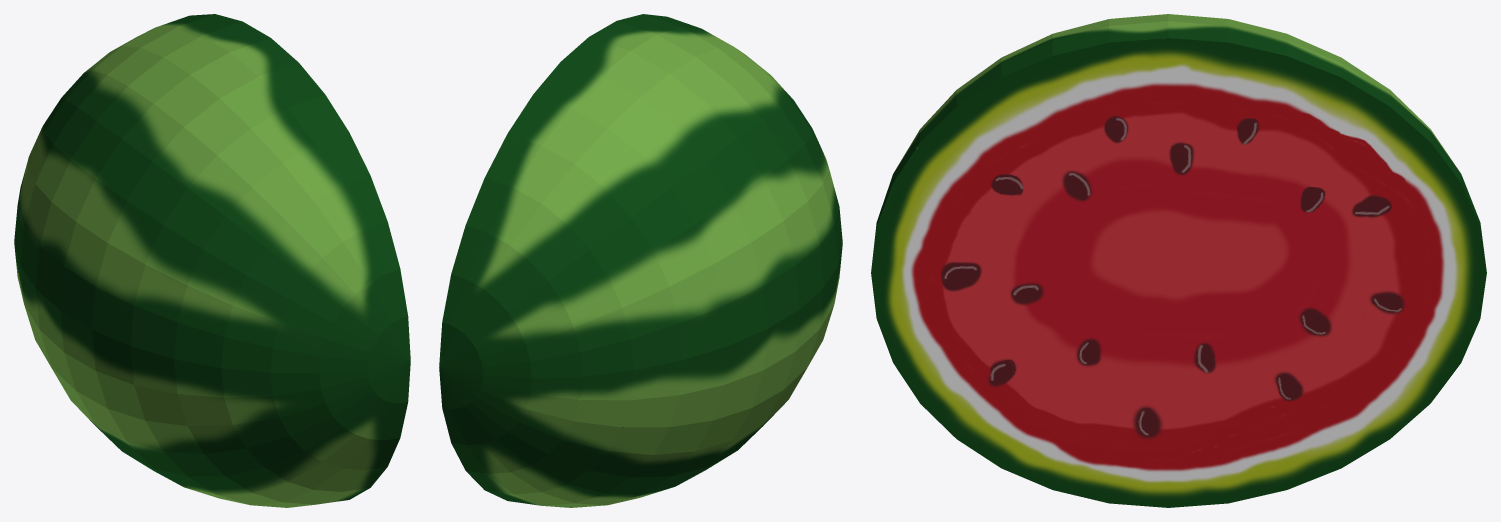
Rendered from watermelon.fbx.
3 renders of one model, left to right at view 1: azimuth 30°, elevation 25°; view 2: azimuth 150°, elevation 25°; view 3: azimuth 270°, elevation 25°, orthographic. The views are drawn at different scales.
Visible parts, largest first — view 1: Watermelon; view 2: Watermelon; view 3: Watermelon.
Part boxes in pixels (left/top/right/bottom): Watermelon: left=14, top=14, right=410, bottom=507; Watermelon: left=439, top=14, right=842, bottom=507; Watermelon: left=871, top=14, right=1486, bottom=507.
Bounding box in the file's own units: 100 × 200 × 238.
